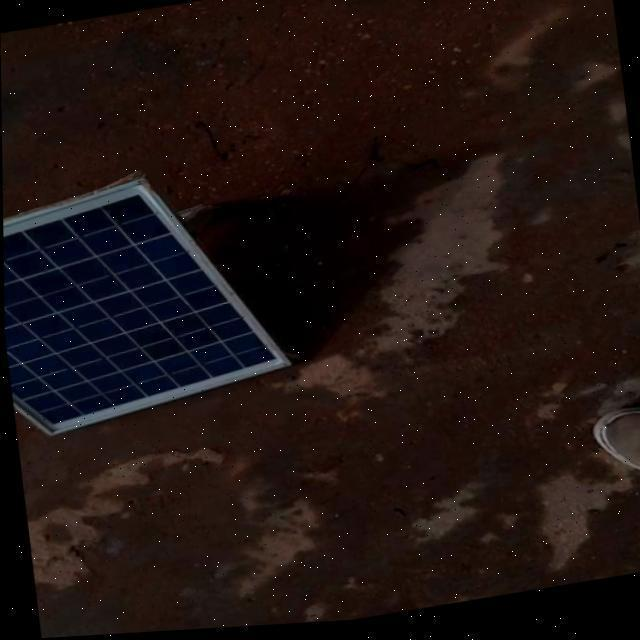Normal Solar Panel: (2, 158, 292, 440)
